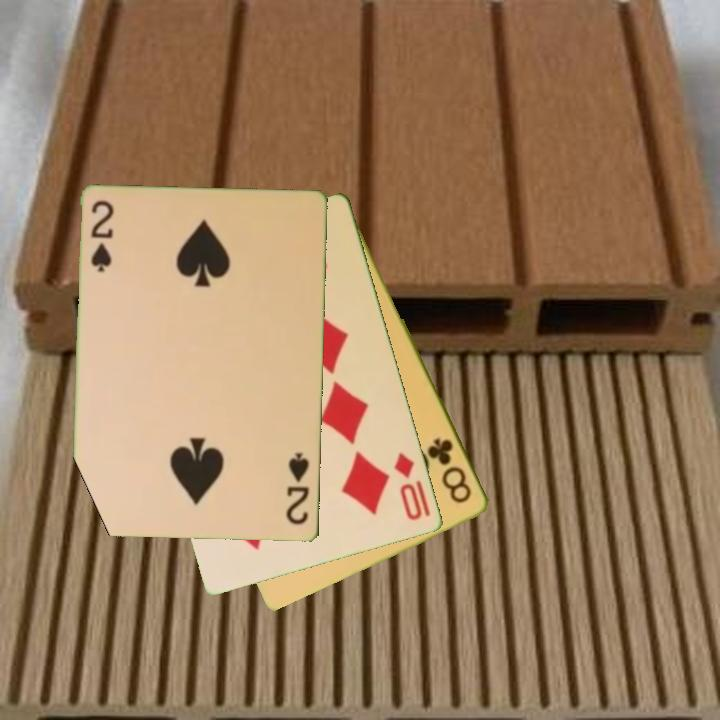10d: (391, 449, 426, 524)
2s: (283, 449, 313, 528), (87, 197, 117, 275)
8c: (424, 434, 475, 507)
